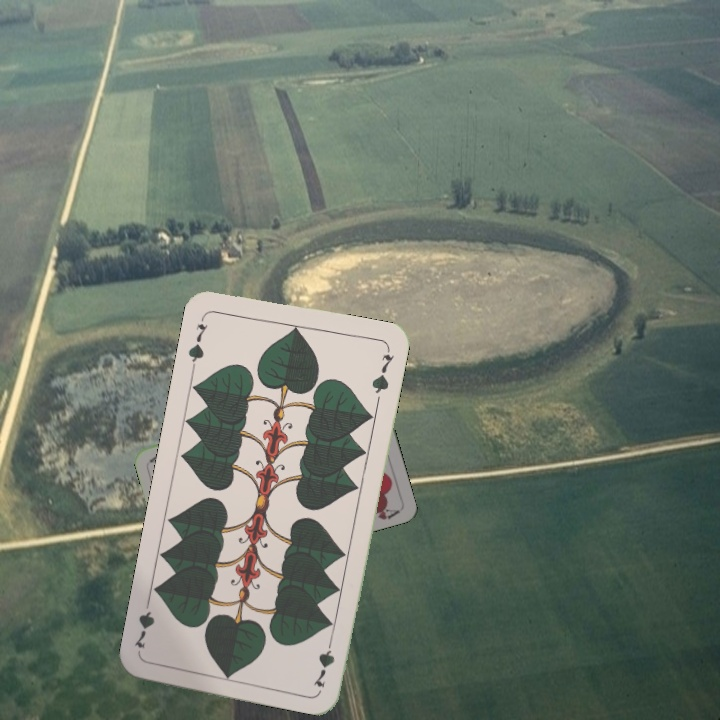G7: (309, 631, 338, 690), (184, 312, 211, 370)
